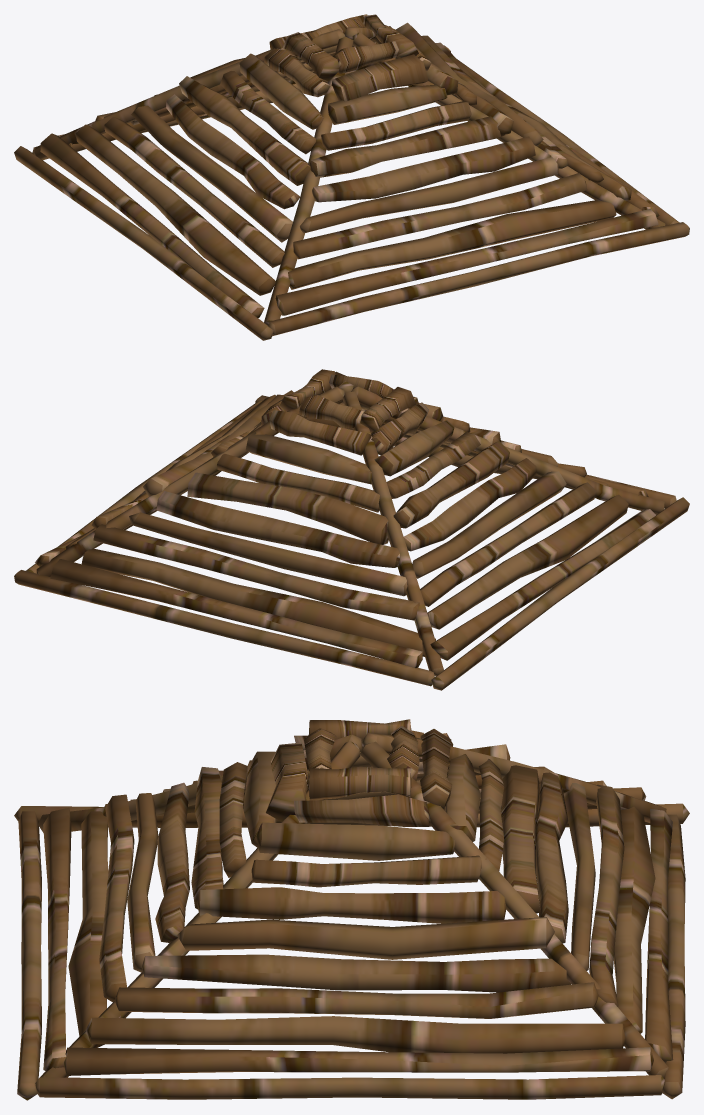
3 renders of one model, top to bottom at view 1: azimuth 30°, elevation 25°; view 2: azimuth 150°, elevation 25°; view 3: azimuth 270°, elevation 25°, orthographic. The views are drawn at different scales.
Parts seen in each view (by area): view 1: Default__PBWA_W1_RoofC_C; view 2: Default__PBWA_W1_RoofC_C; view 3: Default__PBWA_W1_RoofC_C.
Boxes of the visible parts, <box> form: Default__PBWA_W1_RoofC_C: <box>14,14,689,340</box>; Default__PBWA_W1_RoofC_C: <box>14,369,689,690</box>; Default__PBWA_W1_RoofC_C: <box>14,719,689,1100</box>.
Bounding box in the file's own units: 5.12 × 1.89 × 5.14.
Materials: 1 (1 with a texture image).
